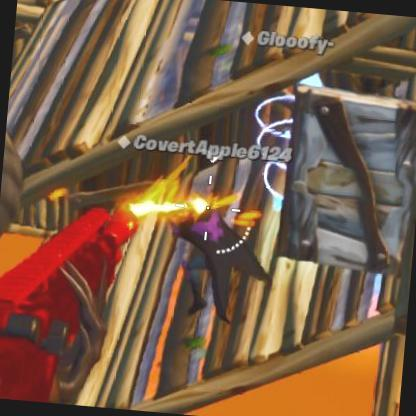person: (161, 209, 255, 336)
